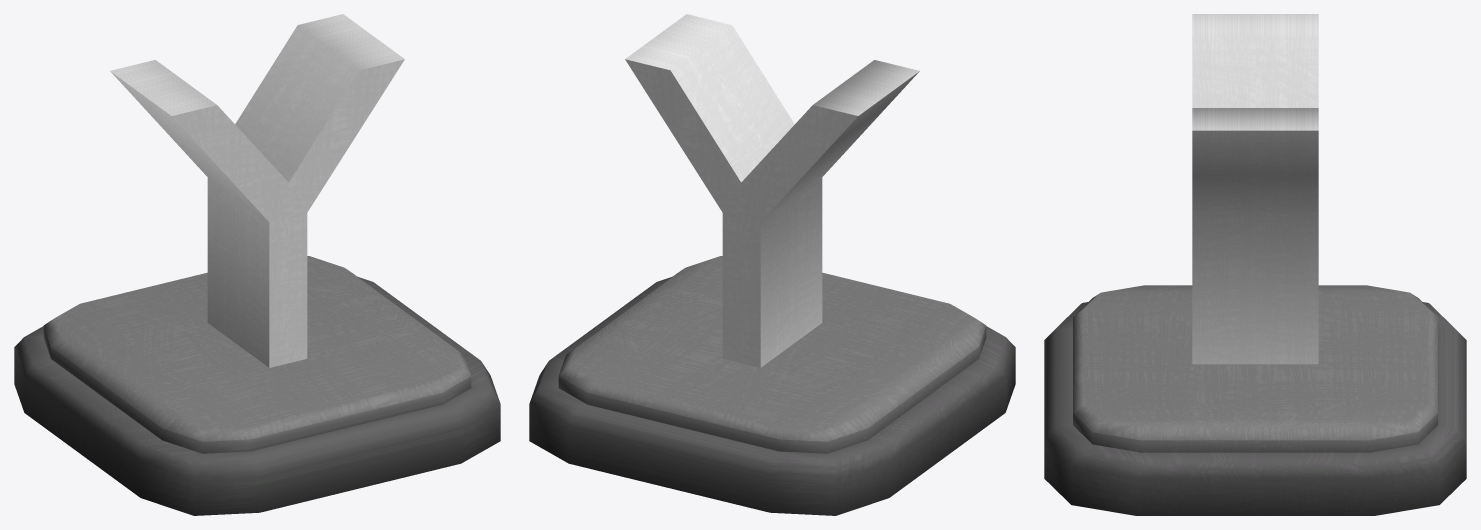
The model's file is Statue Letter Y Hand.fbx.
3 views of the same model, side by side, from view 1: azimuth 30°, elevation 25°; view 2: azimuth 150°, elevation 25°; view 3: azimuth 270°, elevation 25° (orthographic). The views are drawn at different scales.
Parts seen in each view (by area): view 1: StatueBase (1), Letter; view 2: StatueBase (1), Letter; view 3: StatueBase (1), Letter.
Part boxes in pixels (box(x1,y1,x2,y2)): StatueBase (1): box(14, 256, 500, 515); Letter: box(110, 14, 404, 367); StatueBase (1): box(529, 256, 1015, 515); Letter: box(625, 14, 919, 367); StatueBase (1): box(1044, 285, 1466, 515); Letter: box(1192, 14, 1318, 364).
Bounding box in the file's own units: 0.9118 × 0.8657 × 0.9299.
